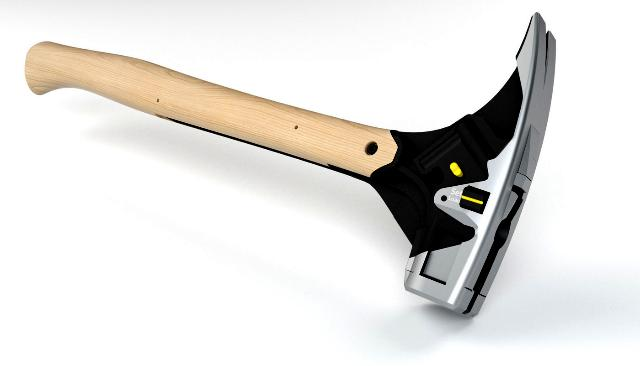hammer: (14, 6, 564, 322)
